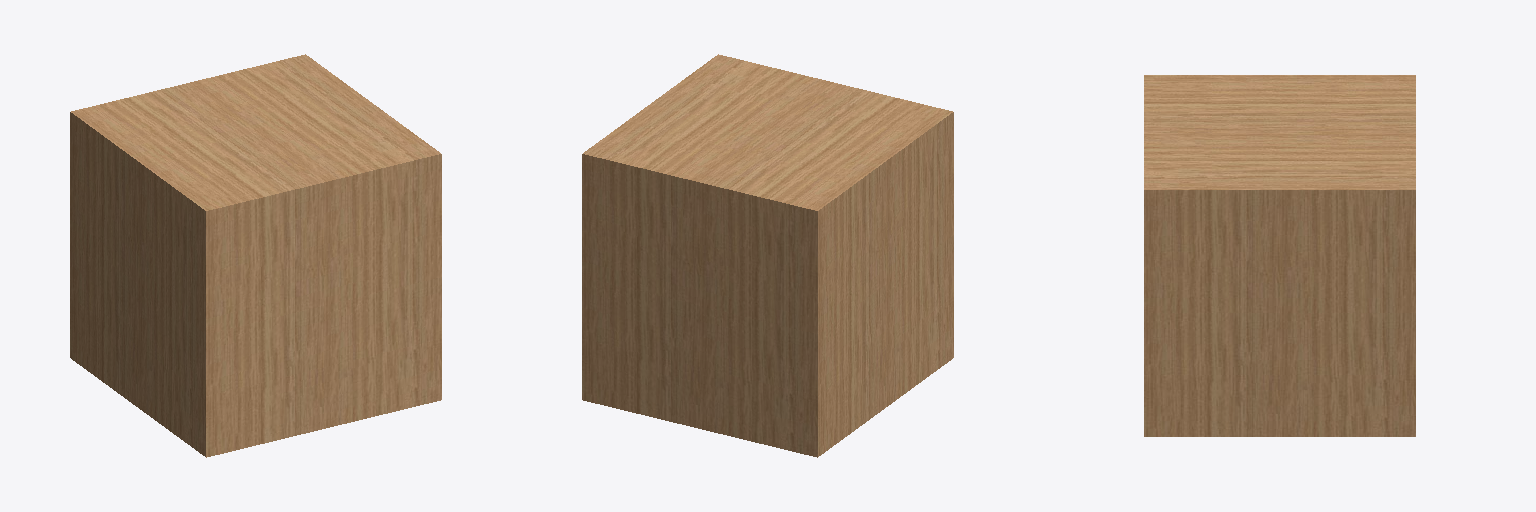
3 renders of one model, left to right at view 1: azimuth 30°, elevation 25°; view 2: azimuth 150°, elevation 25°; view 3: azimuth 270°, elevation 25°, orthographic.
Visible parts, largest first — view 1: Box001; view 2: Box001; view 3: Box001.
Part boxes in pixels (x1,y1,x2,y2): Box001: (70, 54, 441, 457); Box001: (582, 54, 953, 457); Box001: (1144, 75, 1415, 436).
Size of the model in its own units: 100 by 100 by 100.
Materials: 1 (1 with a texture image).